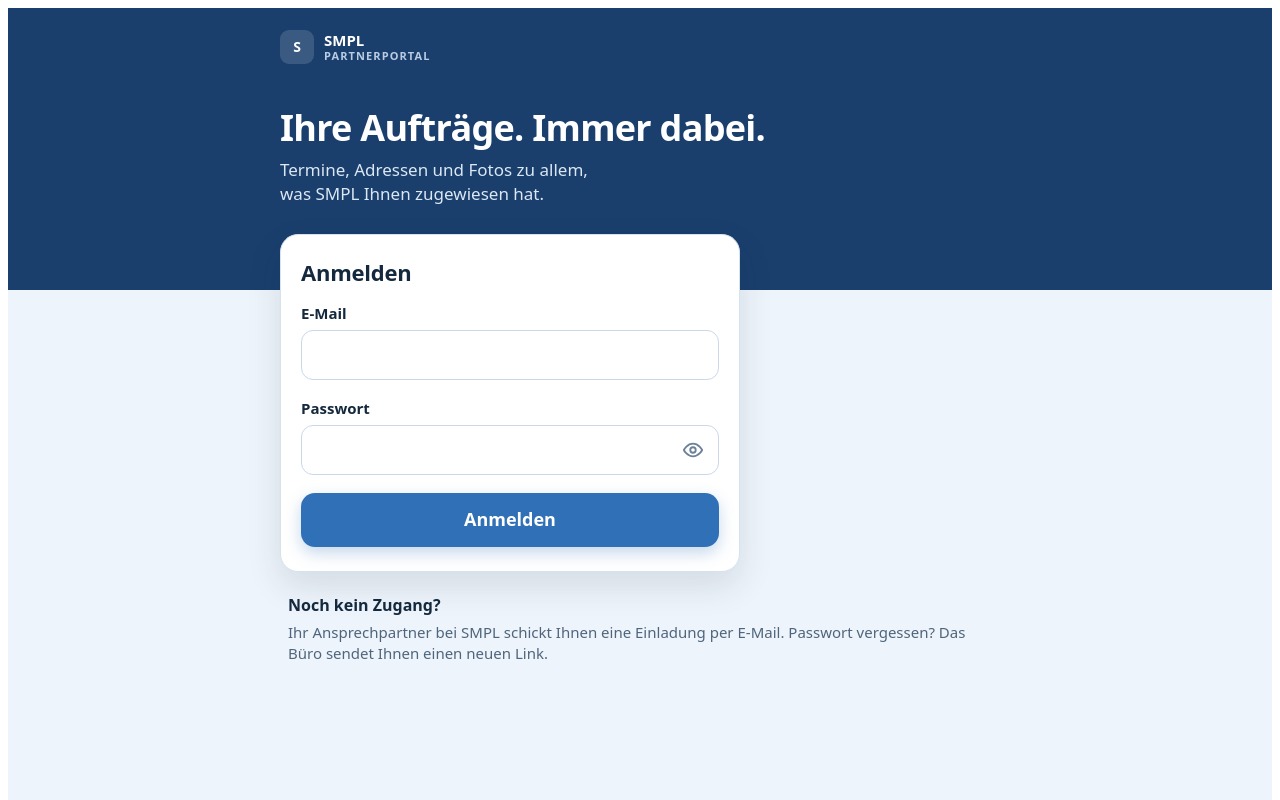
Scenario: PortalApp › shows a wrong password plainly
Type "x@example.com" into the field labelled "E-Mail".
click(510, 355); type("x@example.com")  # box [301, 330, 719, 380]
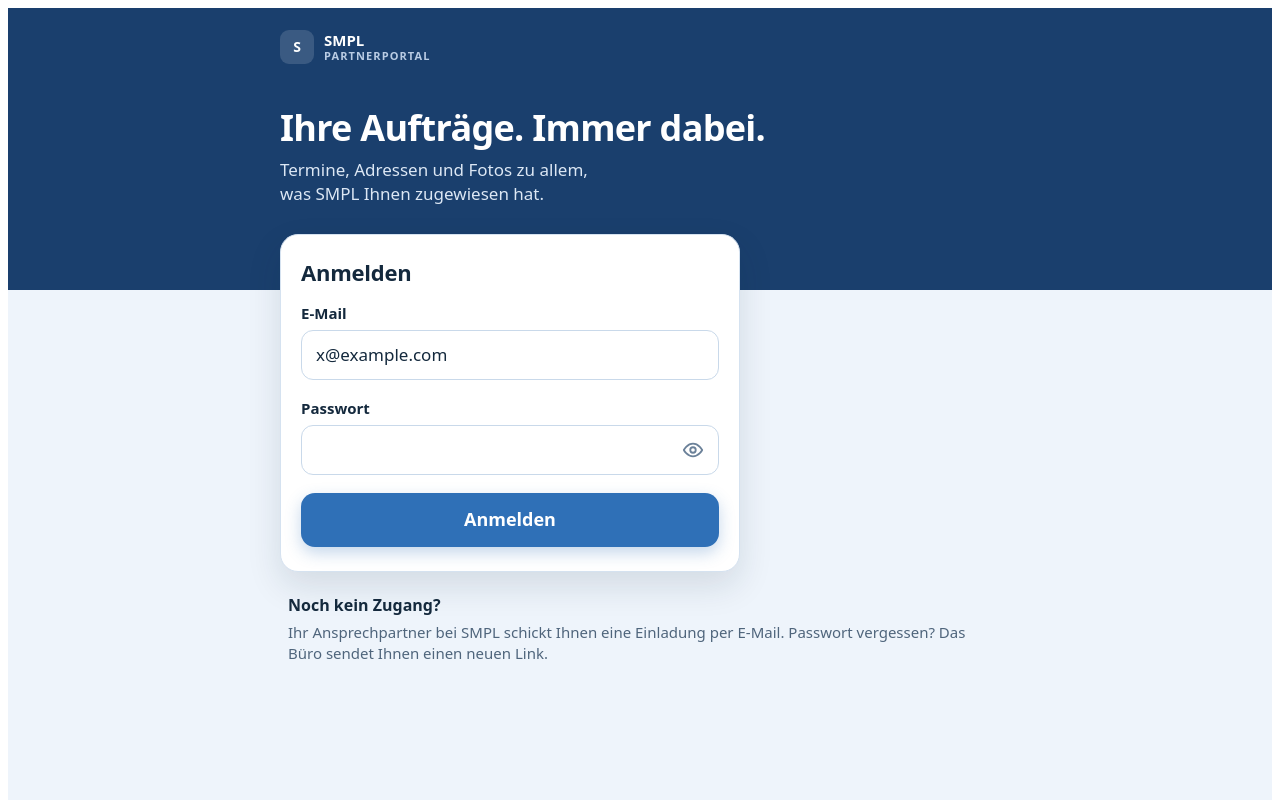
Type "falsch" into the password field labelled "Passwort".
click(510, 450); type("falsch")  # box [301, 425, 719, 475]
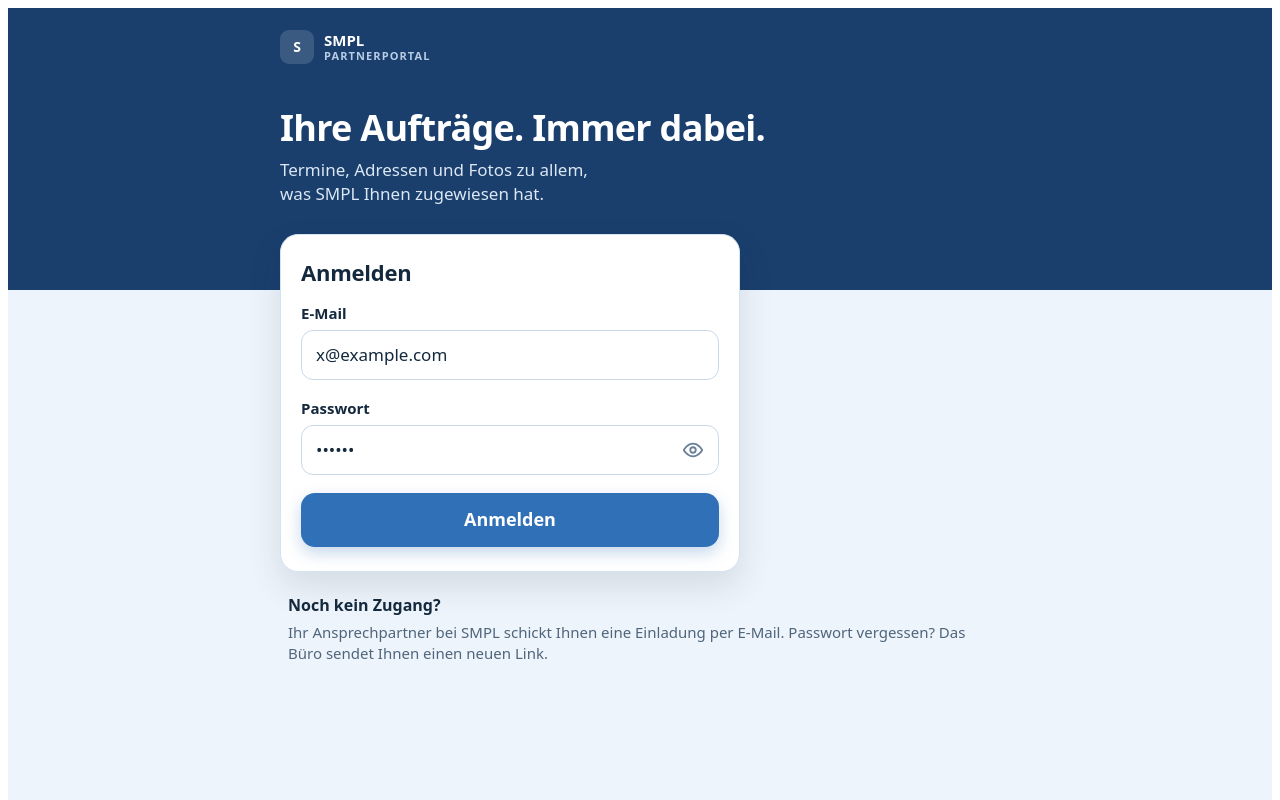
Click the button "Anmelden".
click(510, 520)  # box [301, 493, 719, 547]
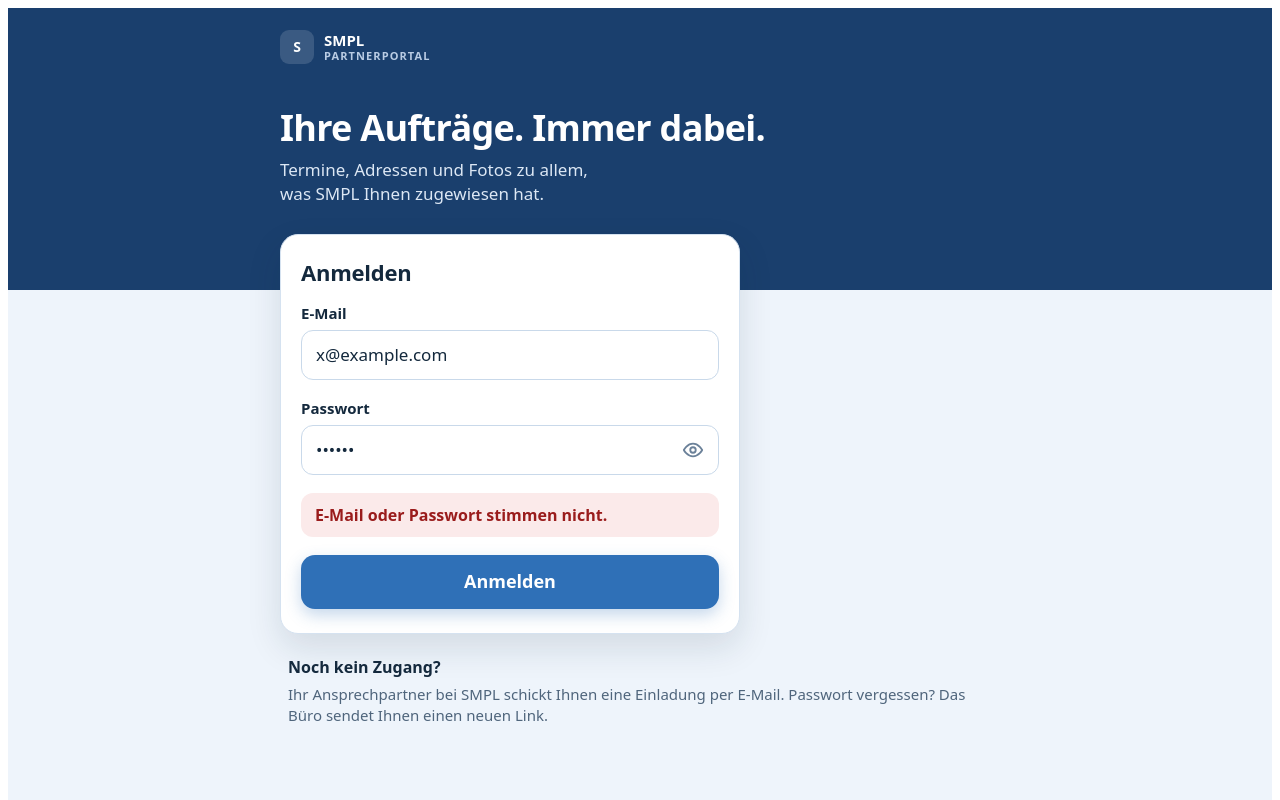
expect the message reads "E-Mail oder Passwort stimmen nicht.": met, box [315, 504, 607, 526]
